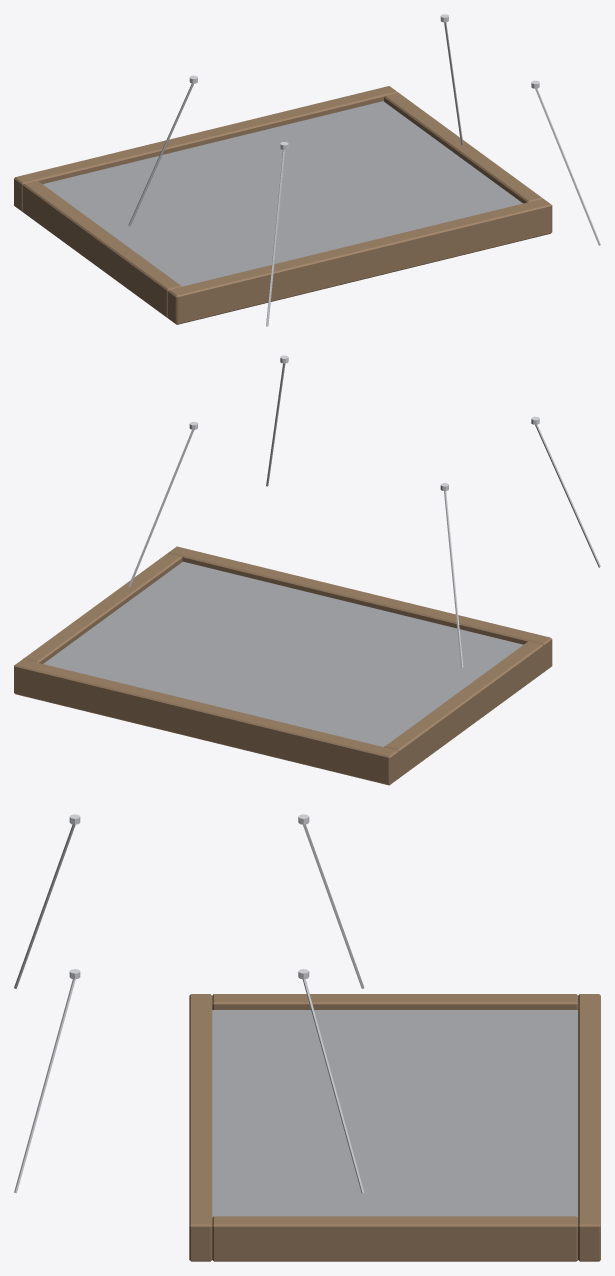
The model's file is music-recording-studio-and-instruments-acoustic-ceilin-db9bc28e__33821.glb.
3 renders of one model, top to bottom at view 1: azimuth 30°, elevation 25°; view 2: azimuth 150°, elevation 25°; view 3: azimuth 270°, elevation 25°, orthographic. The views are drawn at different scales.
Parts seen in each view (by area): view 1: acoustic-ceiling-cloud; view 2: acoustic-ceiling-cloud; view 3: acoustic-ceiling-cloud.
Boxes of the visible parts, x1,y1,x2,y2 form: acoustic-ceiling-cloud: (14, 14, 600, 326); acoustic-ceiling-cloud: (14, 355, 600, 785); acoustic-ceiling-cloud: (14, 814, 600, 1261).
Bounding box in the file's own units: 1.2 × 0.609 × 1.28.
